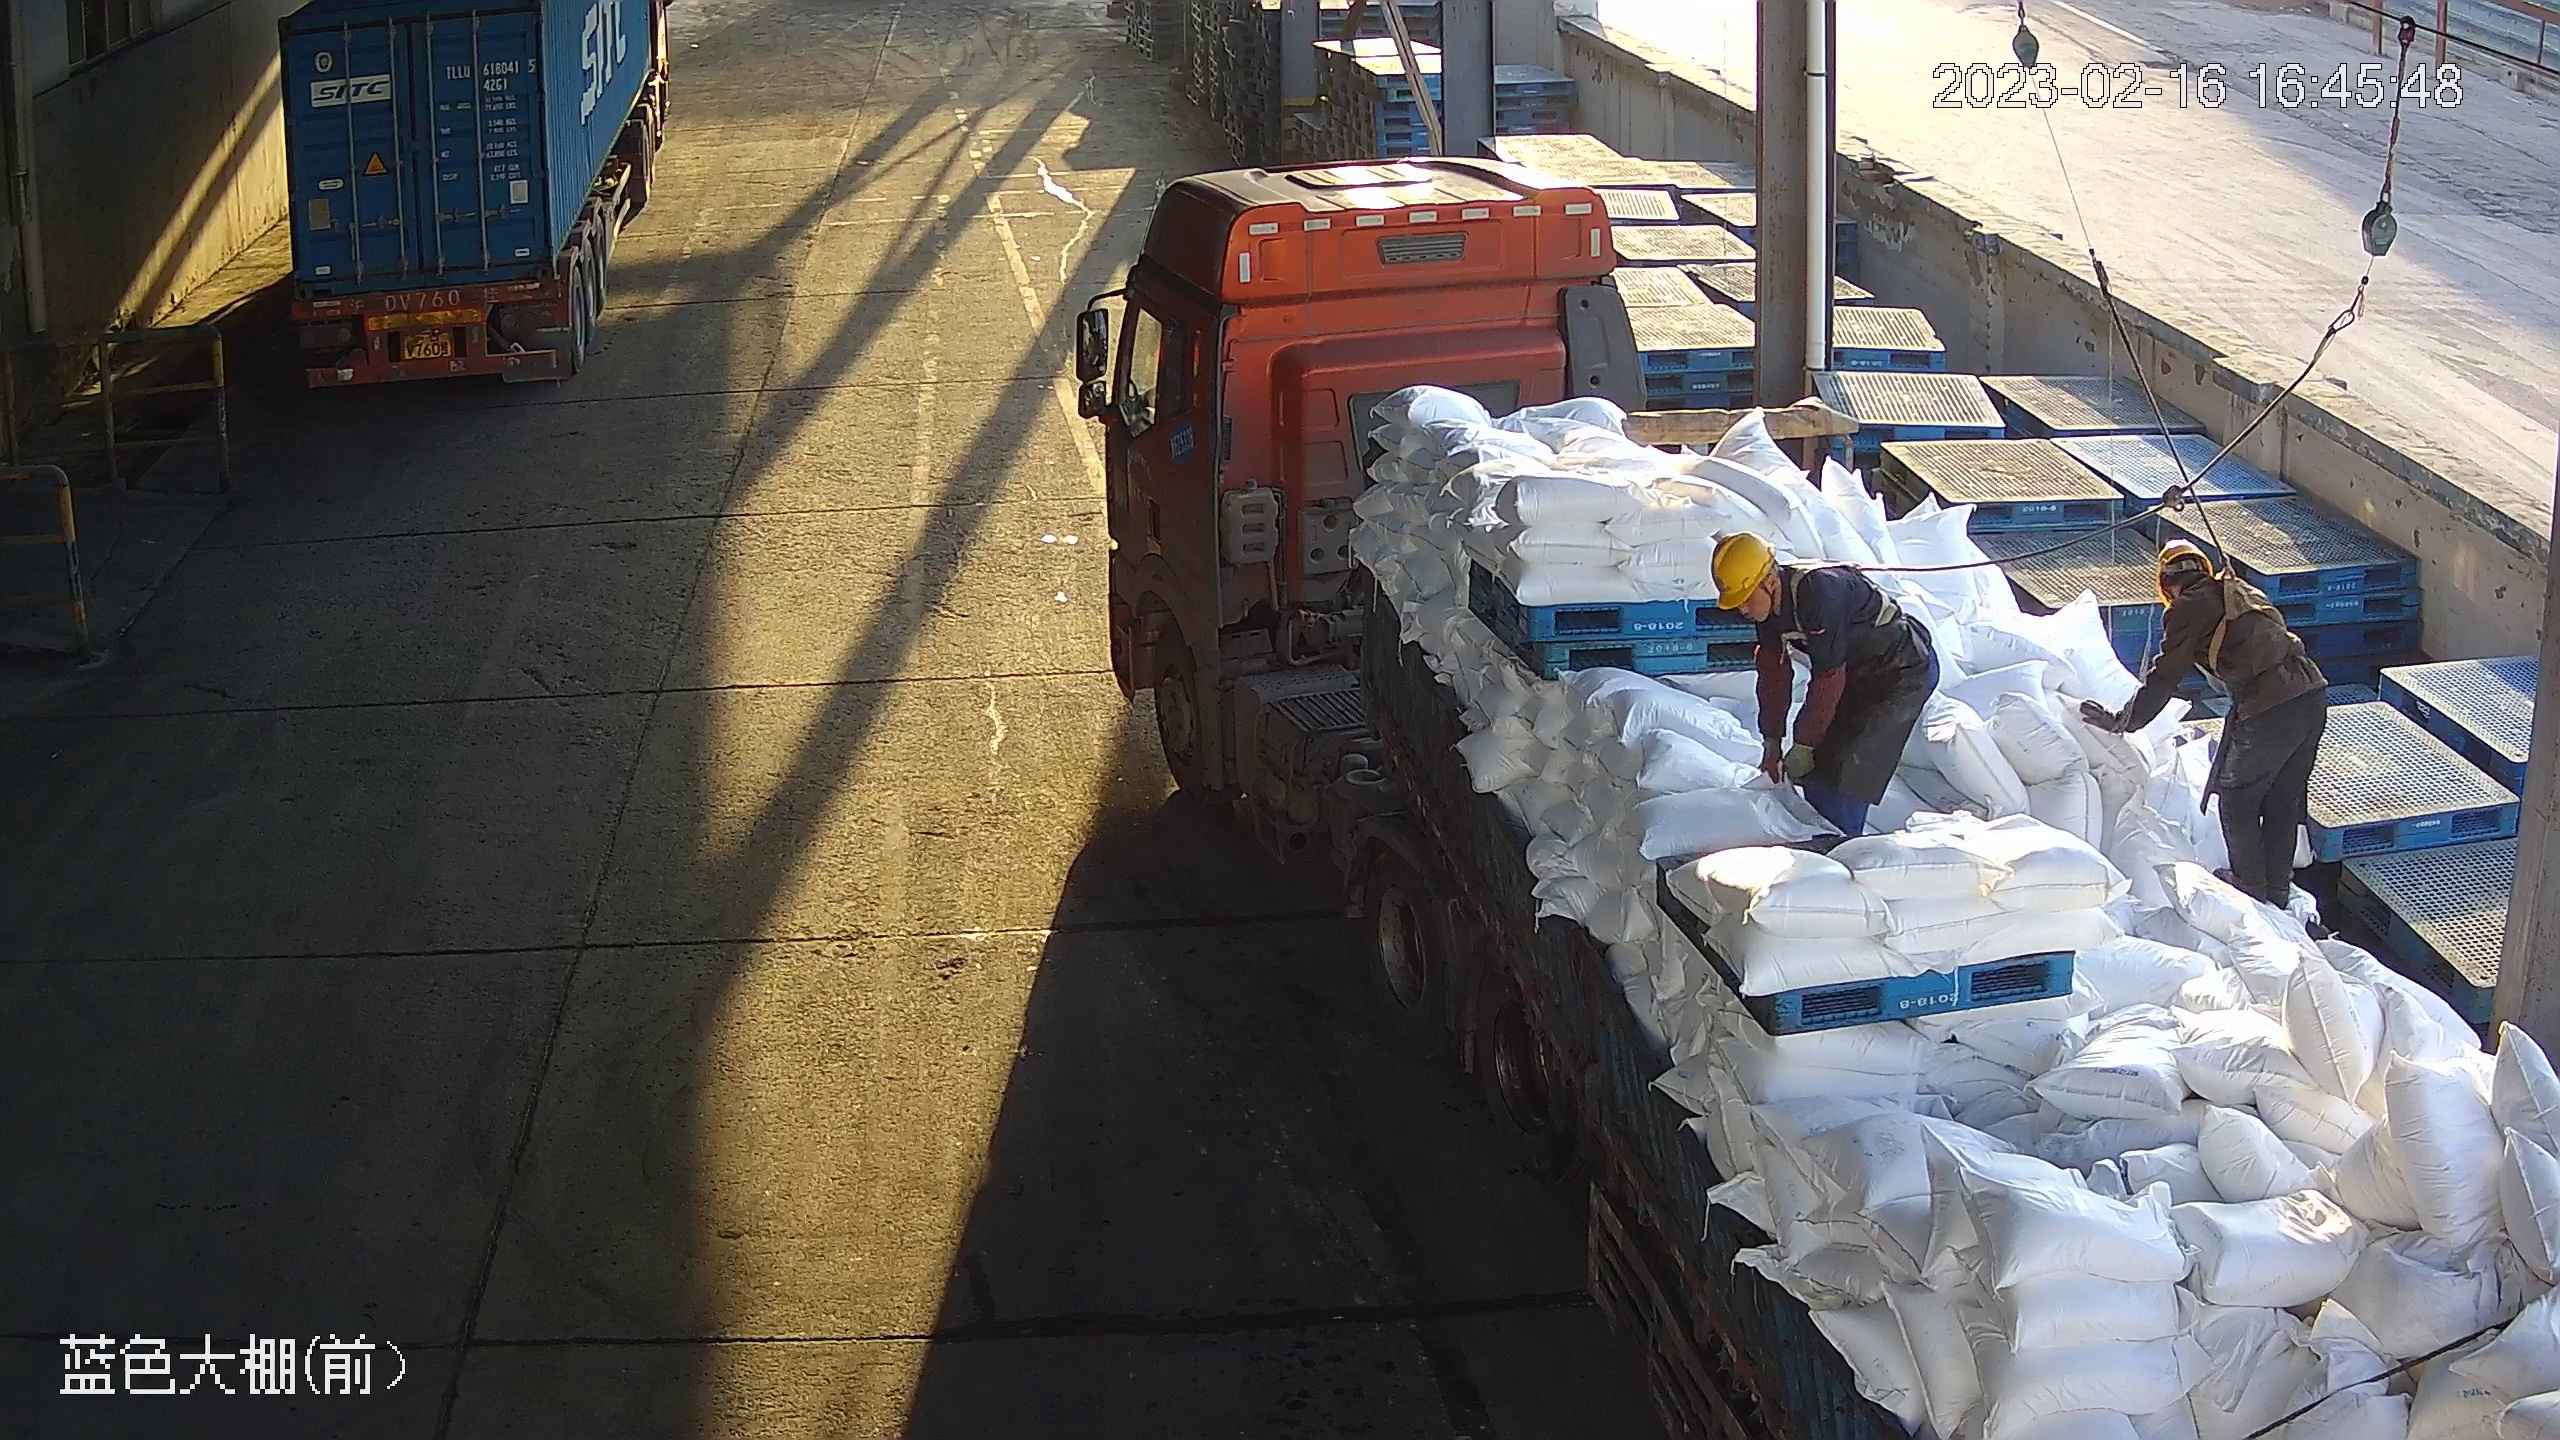belt: (1786, 557, 1894, 650), (2204, 571, 2280, 671)
head: (2128, 535, 2272, 674), (1710, 534, 1860, 658)
helmet: (1712, 532, 1777, 609), (2156, 536, 2214, 598)
people: (2078, 536, 2332, 914), (1708, 532, 1942, 838)
truck: (1068, 156, 2557, 1435), (273, 1, 678, 391)
